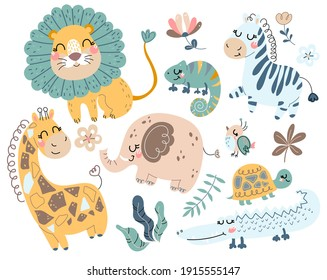animal: (26, 14, 160, 112), (10, 114, 111, 242), (183, 189, 316, 249), (237, 18, 305, 114), (168, 59, 219, 118), (232, 162, 298, 194)
bird: (223, 124, 254, 157)
elephant: (106, 115, 208, 187)
flower: (166, 15, 209, 52), (274, 124, 304, 163), (274, 13, 296, 46), (75, 124, 100, 151), (296, 46, 321, 63)
